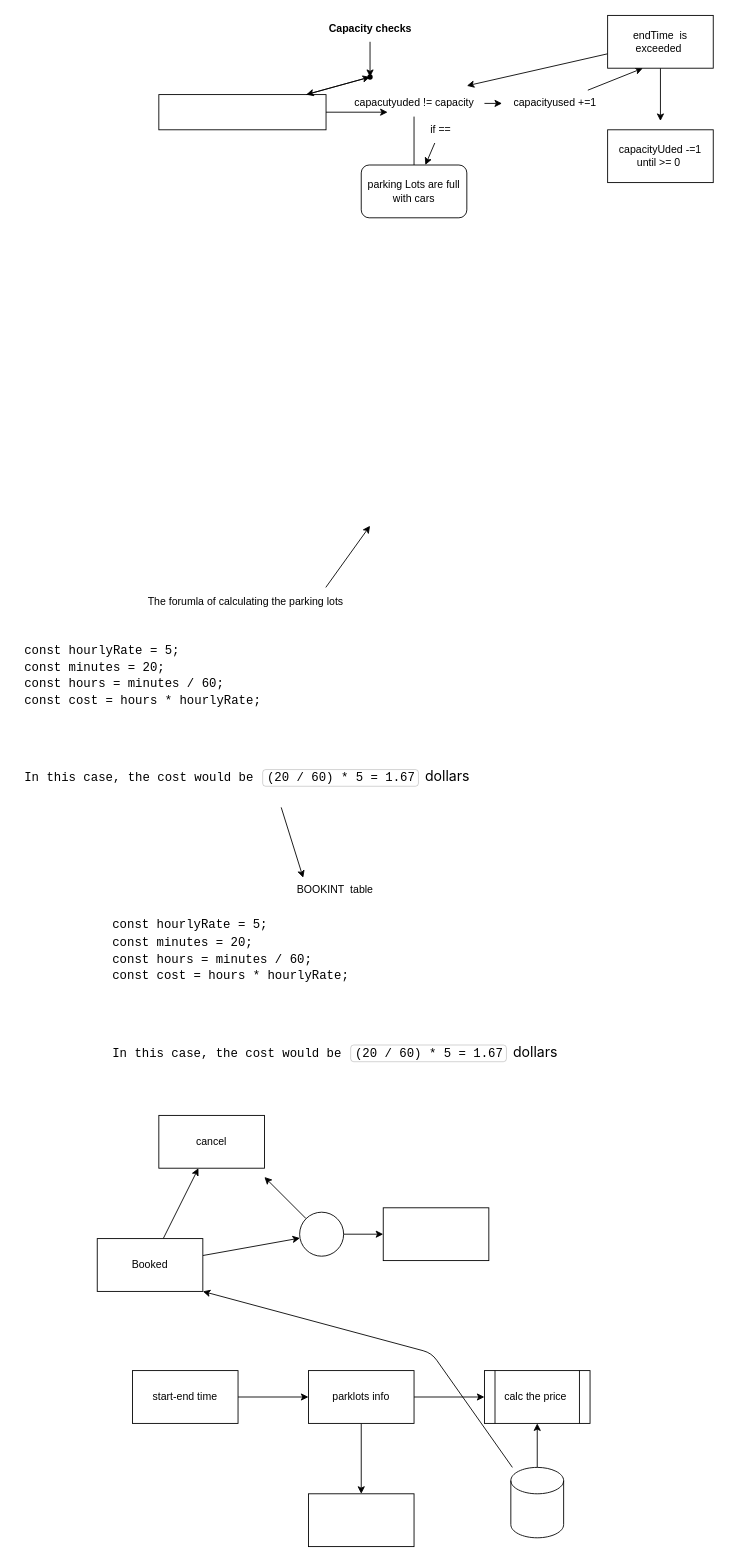
The diagram is 729 pixels wide and 1562 high, and some of its shapes have lost their labels. The centre of each missing label's shape, as x and y in pixels:
"-capacity hourlyrate etc.." goes at point (361, 1520).
"1-capacity:int 2-capacityUsed:int" goes at point (242, 112).
"delete book" goes at point (435, 1234).
"Strip" goes at point (537, 1502).
